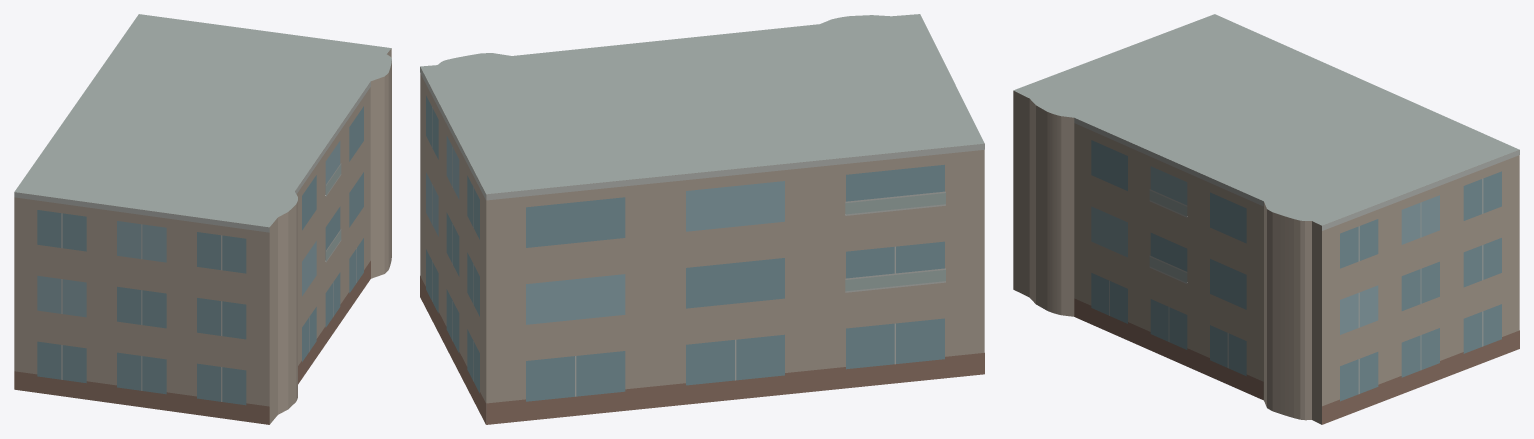
File: survey-upis-32694062.glb
3 views of the same model, side by side, from view 1: azimuth 30°, elevation 25°; view 2: azimuth 150°, elevation 25°; view 3: azimuth 270°, elevation 25° (orthographic). The views are drawn at different scales.
Visible parts, largest first — view 1: survey-upis-32694062.tmp; view 2: survey-upis-32694062.tmp; view 3: survey-upis-32694062.tmp.
Boxes of the visible parts, bbox=[...] form: survey-upis-32694062.tmp: bbox=[14, 14, 391, 424]; survey-upis-32694062.tmp: bbox=[420, 14, 984, 424]; survey-upis-32694062.tmp: bbox=[1013, 14, 1519, 424].
Bounding box in the file's own units: 20.88 × 9.15 × 21.11.
